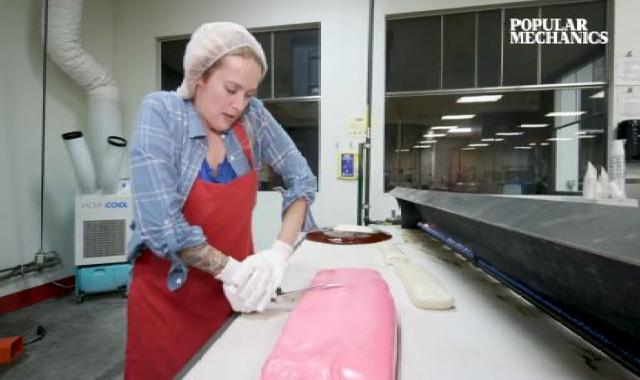hairnet: (169, 14, 267, 98)
